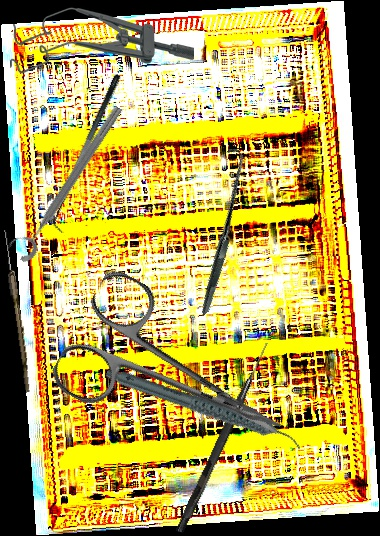Fixation Ring: (3, 96, 128, 266)
Handpiece: (103, 332, 304, 488)
Hook Surgical: (132, 145, 306, 316), (175, 340, 271, 535)
Iris Scissors: (45, 265, 309, 492)
Spatula Surgical: (43, 72, 134, 234)
Speculum: (10, 7, 194, 74)
Surgical Spoon: (0, 229, 34, 393)
